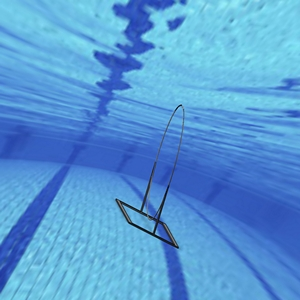circle: (115, 105, 185, 249)
